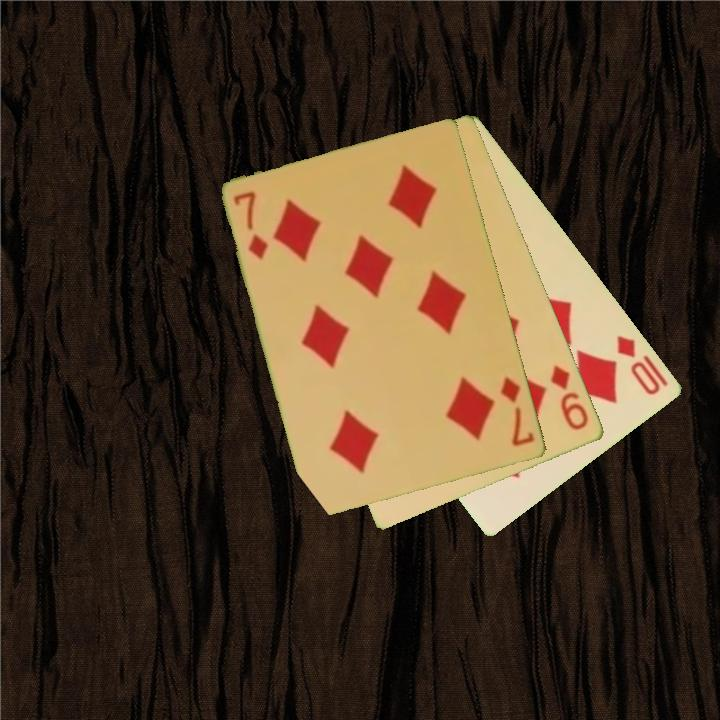10d: (613, 332, 672, 399)
7d: (230, 188, 272, 264), (497, 374, 538, 450)
9d: (547, 361, 592, 434)
